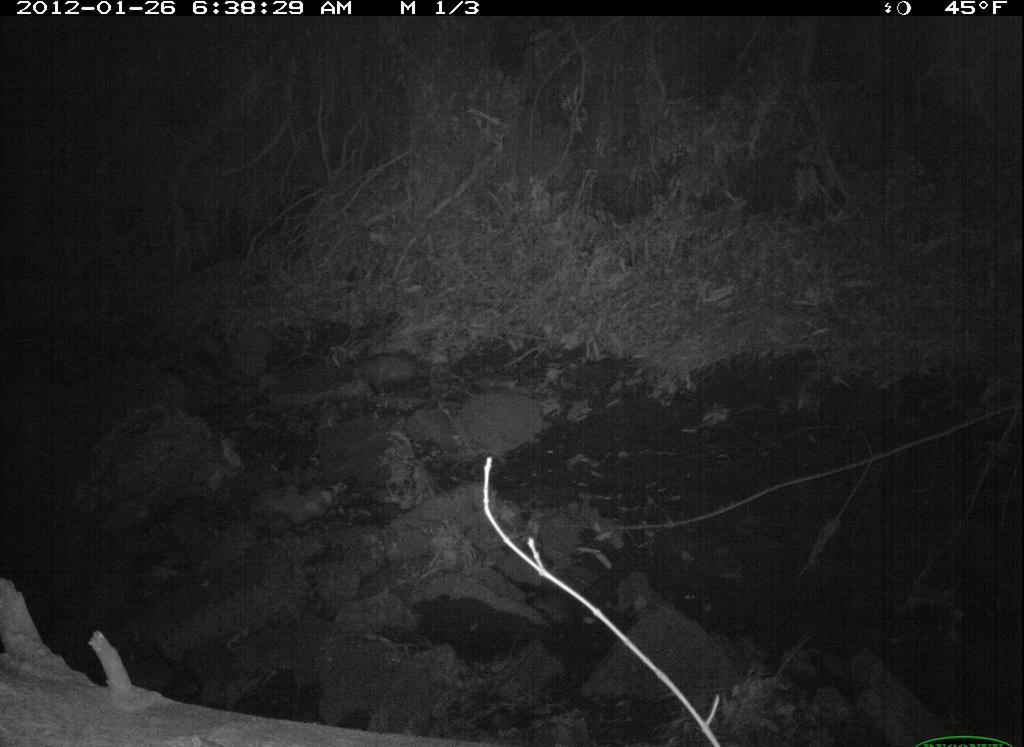opossum: (347, 346, 433, 397)
